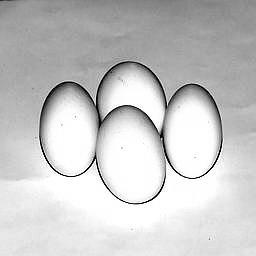telur: (98, 106, 168, 205), (39, 80, 97, 176), (166, 83, 222, 178), (96, 60, 168, 130)
